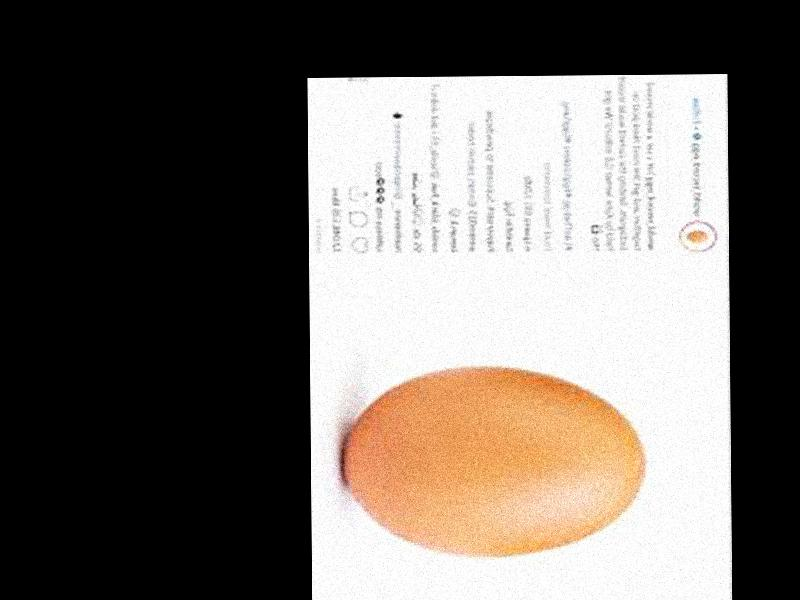Eggs: (345, 366, 646, 560)
